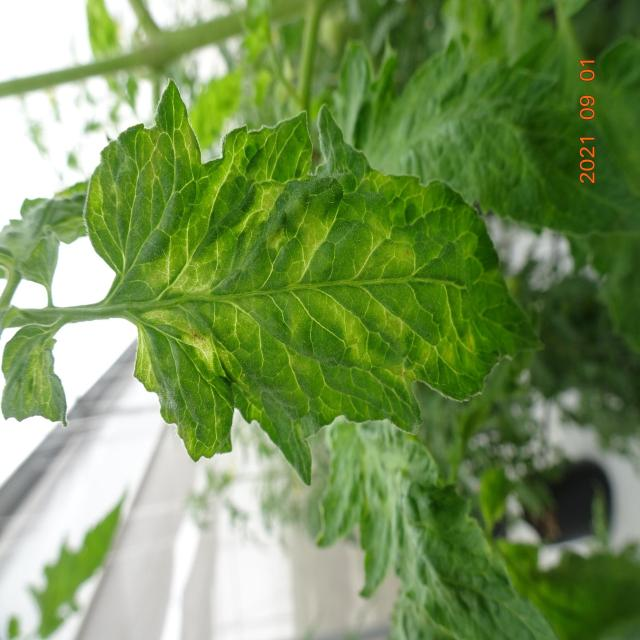T_L_R: (121, 114, 534, 479), (86, 84, 202, 281)
